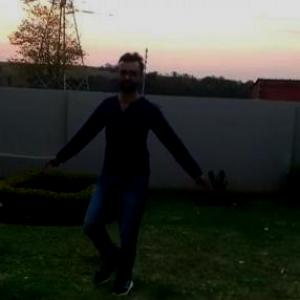land: (73, 71, 190, 241)
